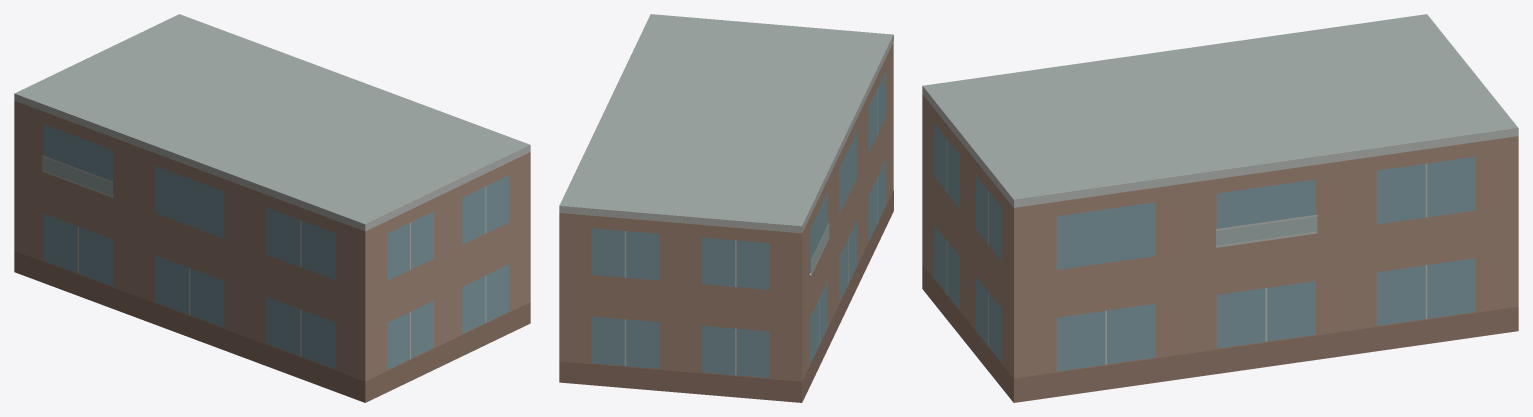
File: survey-upis-33013424.glb
3 views of the same model, side by side, from view 1: azimuth 30°, elevation 25°; view 2: azimuth 150°, elevation 25°; view 3: azimuth 270°, elevation 25° (orthographic). The views are drawn at different scales.
Parts seen in each view (by area): view 1: survey-upis-33013424.tmp; view 2: survey-upis-33013424.tmp; view 3: survey-upis-33013424.tmp.
Boxes of the visible parts, left/top/right/bottom form: survey-upis-33013424.tmp: left=14, top=14, right=530, bottom=402; survey-upis-33013424.tmp: left=559, top=14, right=893, bottom=402; survey-upis-33013424.tmp: left=922, top=14, right=1518, bottom=402.
Bounding box in the file's own units: 11.98 × 6.1 × 16.24.
